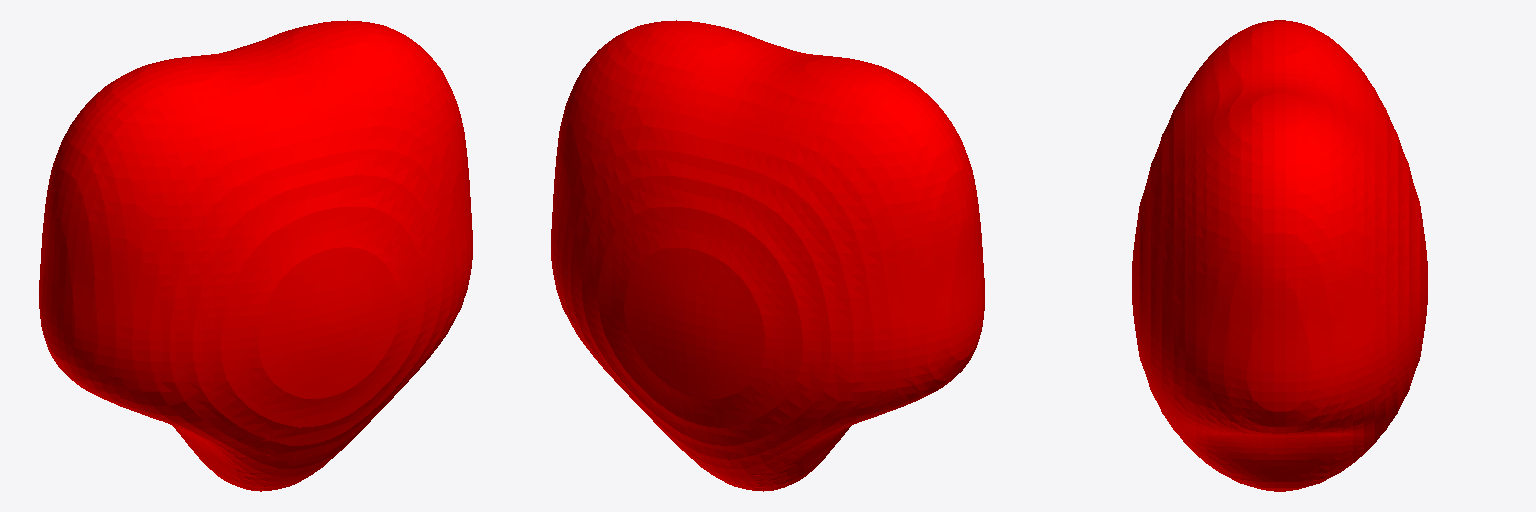
URDF robot description (heart):
<?xml version="1.0"?>
<robot name="heart">
  <link name="base_link">
    <inertial>
      <mass value="5.0"/>
      <origin xyz="0 0 0" rpy="0 0 0"/>
      <inertia ixx="0.1" ixy="0" ixz="0" iyy="0.1" iyz="0" izz="0.1"/>
    </inertial>
    <visual>
      <origin xyz="0 0 0" rpy="1.57 0 0"/>
      <geometry>
        <mesh filename="heart2_5.stl" scale="1 1 1"/>
      </geometry>
      <material name="red">
        <color rgba="1 0 0 1"/>
      </material>
    </visual>
    <collision>
      <origin xyz="0 0 0" rpy="1.57 0 0"/>
      <geometry>
        <mesh filename="heart2_5.stl" scale="1 1 1"/>
      </geometry>
    </collision>
  </link>
</robot>

--- What the picture shows (computed from the rendered views, not written in the file) ---
The picture shows the robot from 3 angles, left to right: view 1: azimuth 30°, elevation 25°; view 2: azimuth 150°, elevation 25°; view 3: azimuth 270°, elevation 25°; orthographic projection.
Robot: heart — 1 links, 0 joints (none); root link base_link; default pose: every joint at zero.
Visible links, largest first — view 1: base_link; view 2: base_link; view 3: base_link.
Boxes of the visible links, bbox=[...] form: base_link: bbox=[39, 20, 472, 491]; base_link: bbox=[551, 20, 984, 491]; base_link: bbox=[1132, 20, 1427, 491].
Bounding box of the posed robot: 0.4797 × 0.3192 × 0.491 m (x, y, z).
1 mesh visuals loaded from 1 distinct referenced files (1 binary STL).